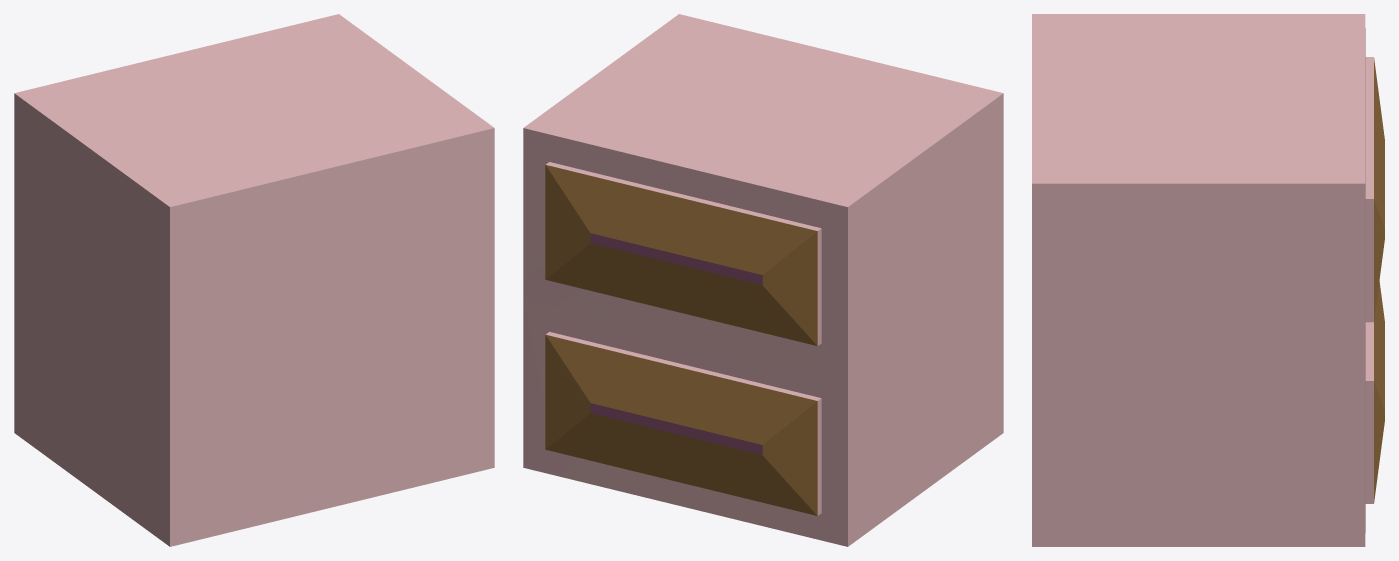
Rendered from Drawer.fbx.
3 views of the same model, side by side, from view 1: azimuth 30°, elevation 25°; view 2: azimuth 150°, elevation 25°; view 3: azimuth 270°, elevation 25° (orthographic). The views are drawn at different scales.
Visible parts, largest first — view 1: Drawer; view 2: Drawer; view 3: Drawer.
Part boxes in pixels (x1,y1,x2,y2): Drawer: (14, 14, 494, 546); Drawer: (523, 14, 1003, 546); Drawer: (1032, 14, 1384, 546).
Bounding box in the file's own units: 0.5036 × 0.4429 × 0.5036.
